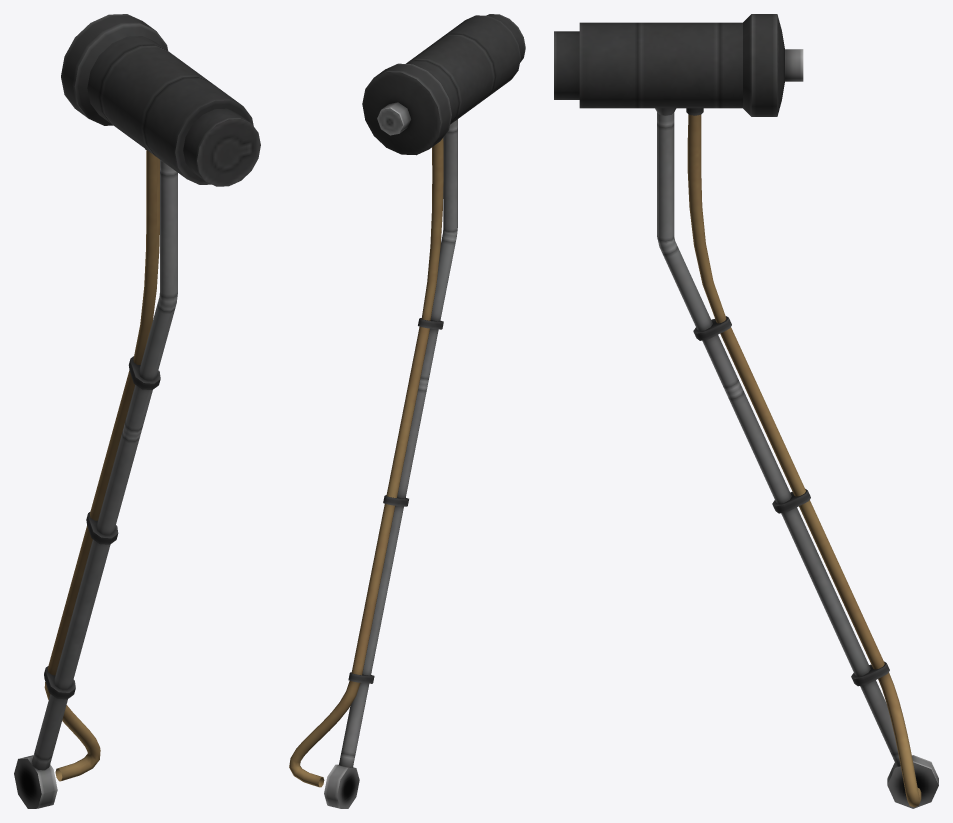
The model's file is samplearm.obj.
3 views of the same model, side by side, from view 1: azimuth 30°, elevation 25°; view 2: azimuth 150°, elevation 25°; view 3: azimuth 270°, elevation 25° (orthographic). The views are drawn at different scales.
Parts seen in each view (by area): view 1: 1; view 2: 1; view 3: 1.
Boxes of the visible parts, x1,y1,x2,y2 form: 1: (14, 14, 260, 808); 1: (289, 14, 525, 808); 1: (554, 14, 938, 808).
Size of the model in its own units: 0.1742 by 1.26 by 0.56.
1 material, 1 textured.
